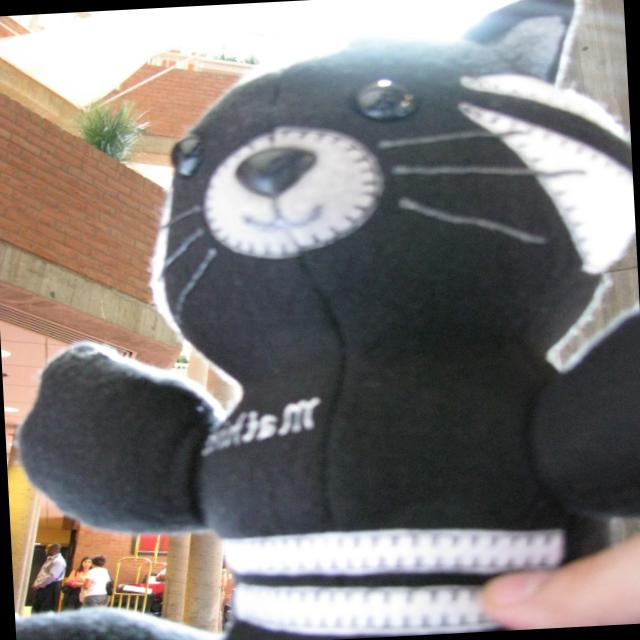Toy: (42, 19, 609, 640)
